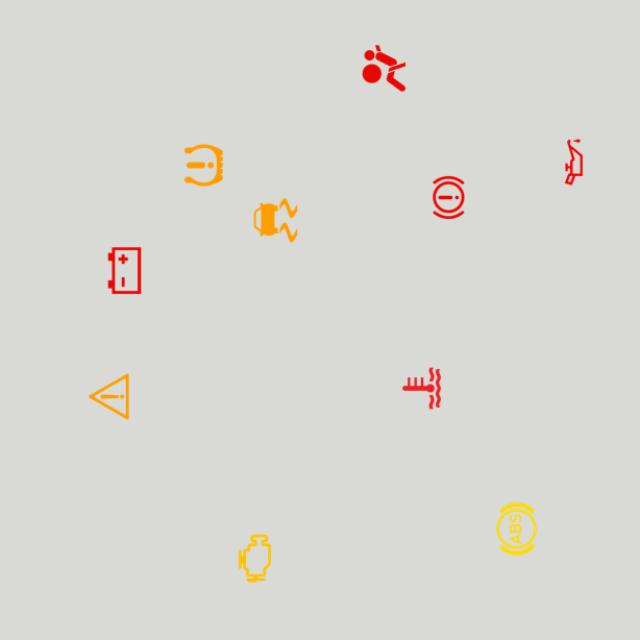Anti Lock Braking System: (488, 500, 545, 558)
Braking System Issue: (420, 169, 477, 226)
Charging System Issue: (96, 242, 153, 299)
Check Engine: (226, 529, 284, 587)
Electronic Stability Problem -ESP-: (247, 192, 304, 249)
Engine Overheating Warning Light: (393, 360, 450, 417)
Low Engine Oil Warning Light: (545, 133, 603, 191)
Low Tire Pressure Warning Light: (175, 136, 233, 194)
Master warning light: (80, 368, 138, 425)
SRS-Airbag: (355, 40, 413, 97)
